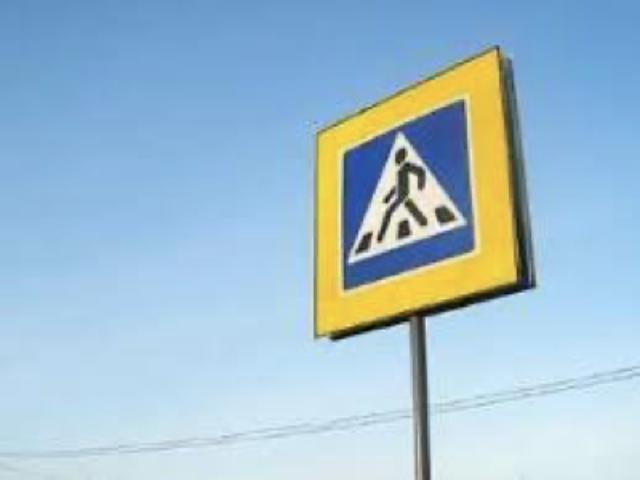crosswalk-sign: (312, 44, 537, 340)
